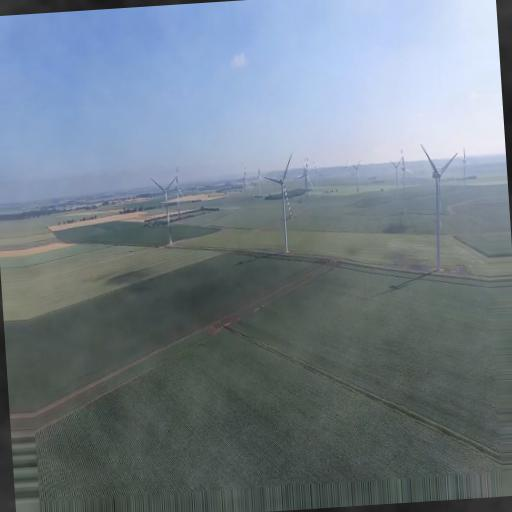wind turbine: (422, 142, 456, 265), (264, 150, 295, 249), (150, 174, 179, 247)
